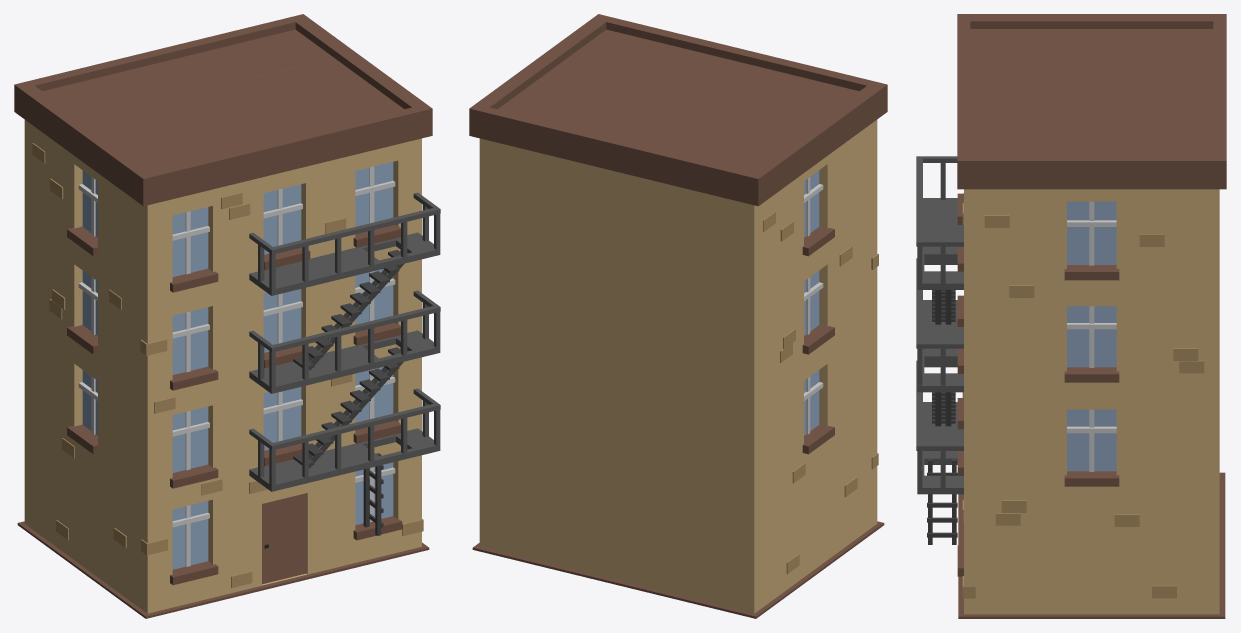
Rendered from House_03.fbx.
3 views of the same model, side by side, from view 1: azimuth 30°, elevation 25°; view 2: azimuth 150°, elevation 25°; view 3: azimuth 270°, elevation 25° (orthographic). The views are drawn at different scales.
Parts seen in each view (by area): view 1: House_03; view 2: House_03; view 3: House_03.
Boxes of the visible parts, x1,y1,x2,y2 form: House_03: (14, 14, 440, 618); House_03: (469, 14, 887, 618); House_03: (916, 14, 1226, 618).
Bounding box in the file's own units: 714 × 1041 × 637.
